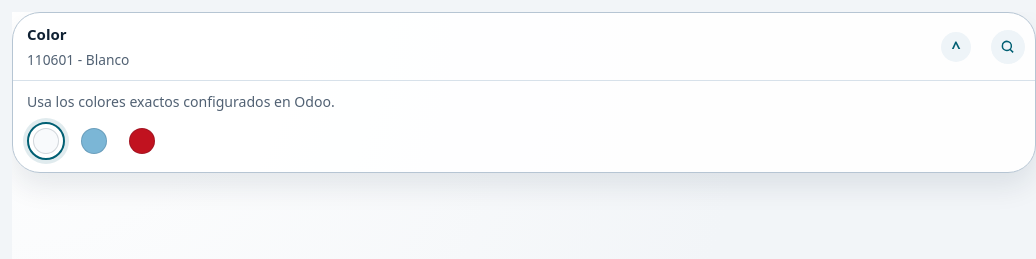
it: AttributeSection › permite limpiar la busqueda de color
Click the button named "buscar en color" at (1008, 47), box [991,30,1025,64]
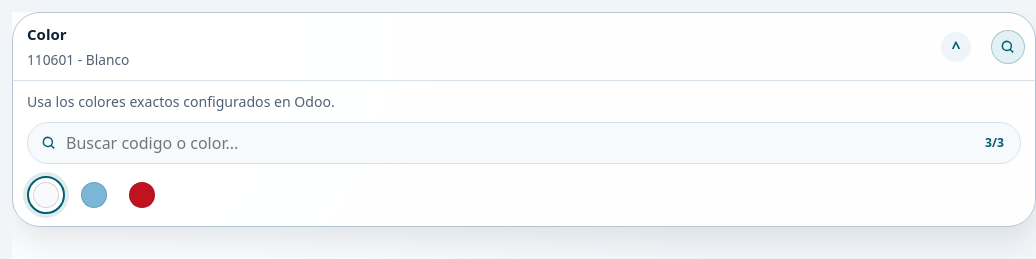
Type "146305" into the search field named "buscar codigo o color en color" at (508, 143), box [66,124,950,162]
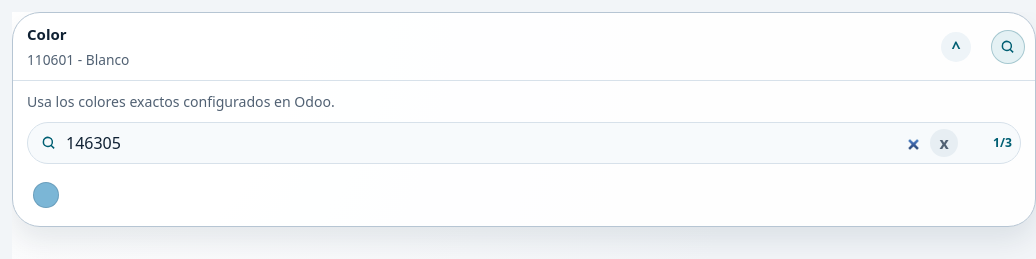
Click the button named "limpiar busqueda de color" at (944, 143), box [930,129,958,157]
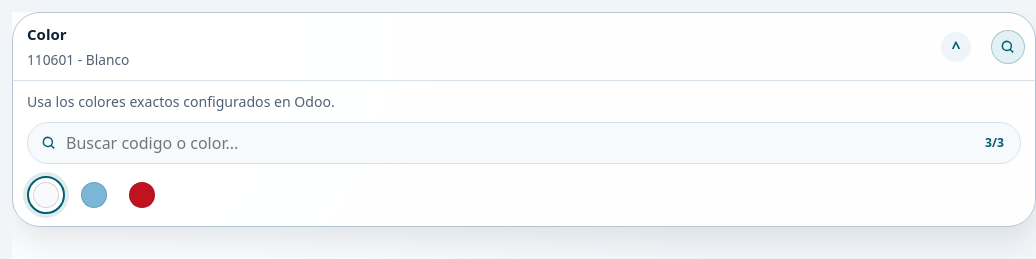
Check: the button named "146305 - azul aruba" is shown, box [75,176,113,214]
Check: the search field named "buscar codigo o color en color" is empty, box [66,124,950,162]
Check: the button named "110601 - blanco" is shown, box [27,176,65,214]
